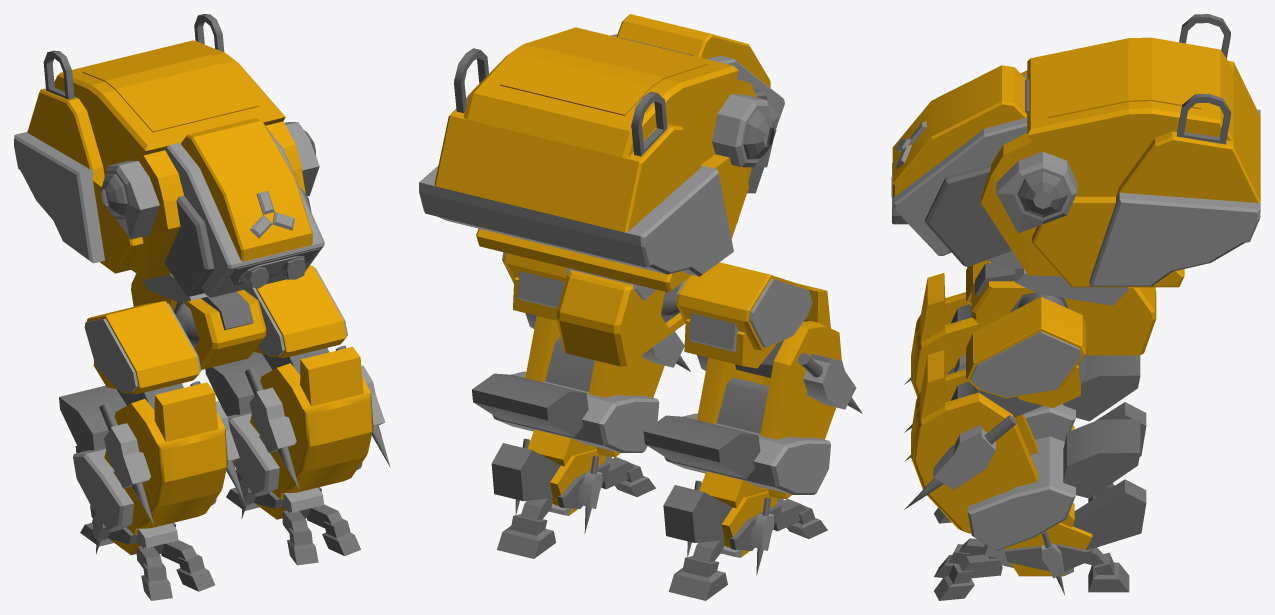
File: FBX_Aurora_body.fbx
3 renders of one model, left to right at view 1: azimuth 30°, elevation 25°; view 2: azimuth 150°, elevation 25°; view 3: azimuth 270°, elevation 25°, orthographic. The views are drawn at different scales.
Visible parts, largest first — view 1: polySurface17, Leg_geo; view 2: polySurface17, Leg_geo; view 3: polySurface17, Leg_geo.
Part boxes in pixels (x1,y1,x2,y2): polySurface17: (14,14,324,369); Leg_geo: (59,265,390,600); polySurface17: (419,14,784,366); Leg_geo: (472,252,862,600); polySurface17: (891,14,1260,355); Leg_geo: (904,260,1146,600).
Bounding box in the file's own units: 122 × 208 × 142.
